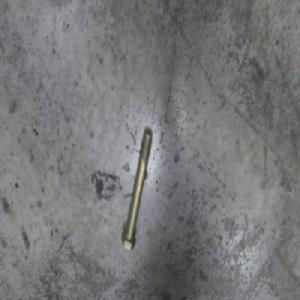Bolt: (121, 131, 155, 249)
